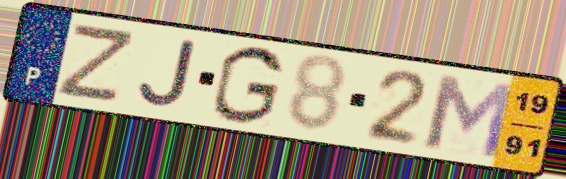2: (364, 68, 430, 147)
8: (282, 53, 354, 137)
G: (209, 43, 287, 126)
J: (135, 38, 199, 111)
M: (422, 71, 518, 162)
Z: (52, 23, 140, 106)
